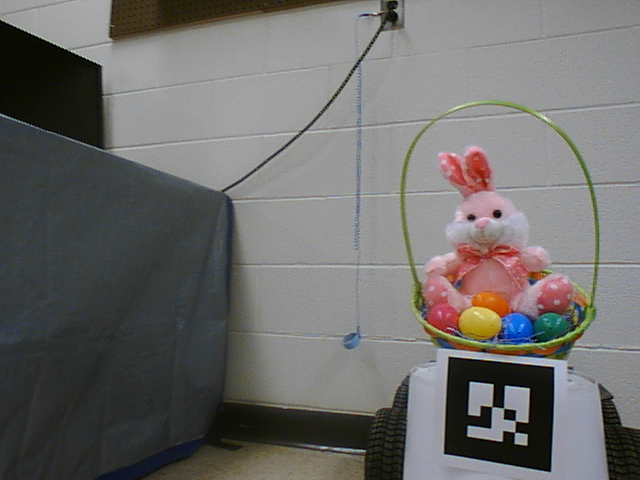bunny: (393, 90, 609, 366)
